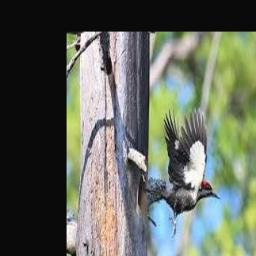Woodpecker: (143, 107, 221, 237)
